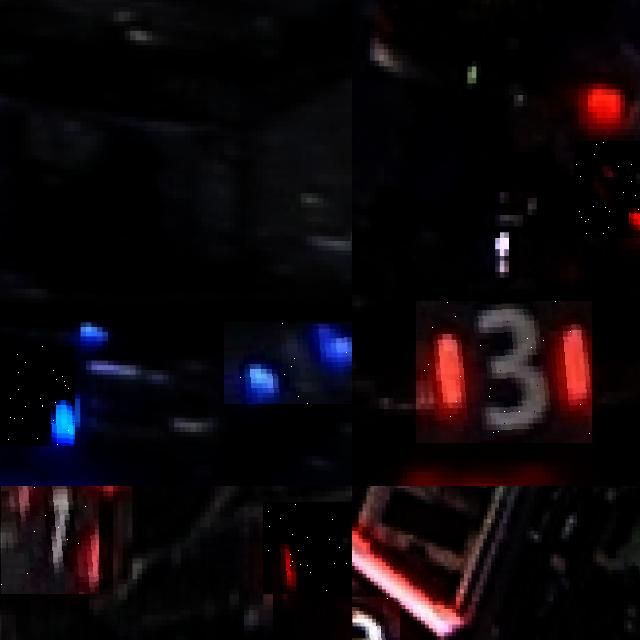B1: (224, 322, 352, 403), (0, 345, 75, 446)
R1: (1, 486, 98, 594), (263, 501, 352, 594)
R3: (417, 301, 592, 443), (573, 141, 640, 238)
